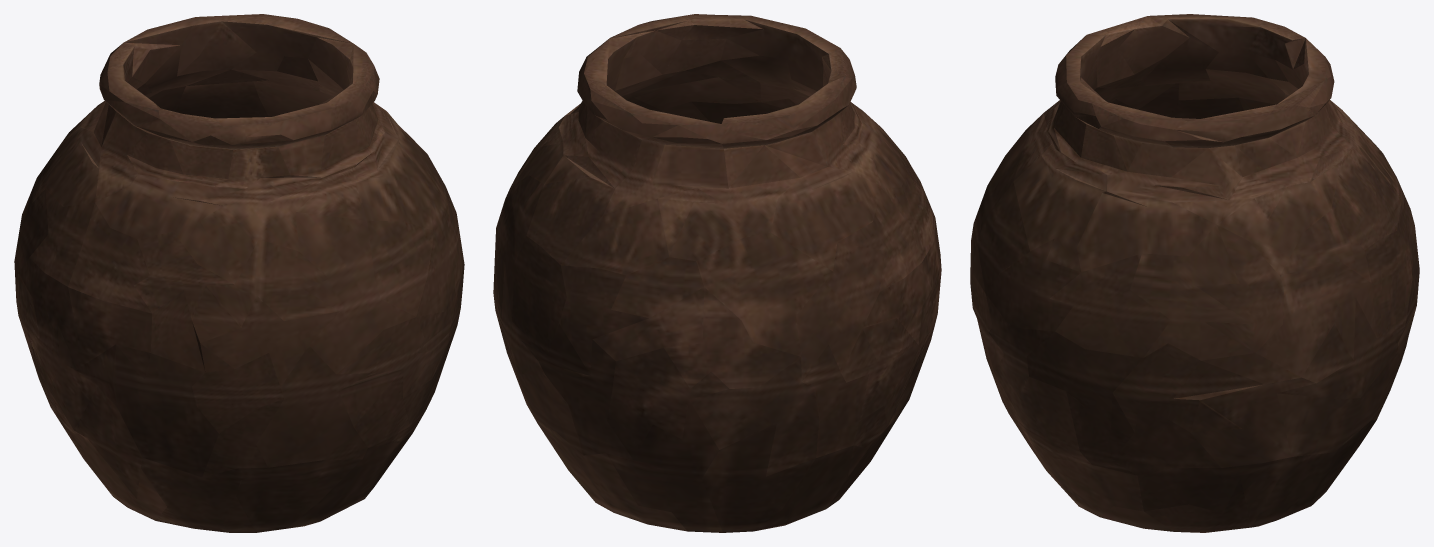
The model's file is onggi_jar.glb.
3 renders of one model, left to right at view 1: azimuth 30°, elevation 25°; view 2: azimuth 150°, elevation 25°; view 3: azimuth 270°, elevation 25°, orthographic.
Parts seen in each view (by area): view 1: onggi_jar; view 2: onggi_jar; view 3: onggi_jar.
Boxes of the visible parts, box(x1,y1,x2,y2) form: onggi_jar: box(14, 14, 464, 532); onggi_jar: box(493, 14, 941, 532); onggi_jar: box(970, 14, 1419, 532).
Size of the model in its own units: 0.7129 by 0.72 by 0.712.
1 material, 1 textured.
